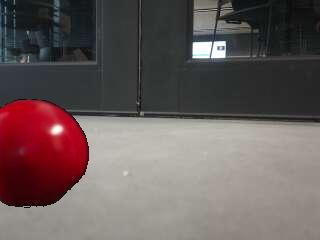Tomato: (0, 99, 90, 208)
